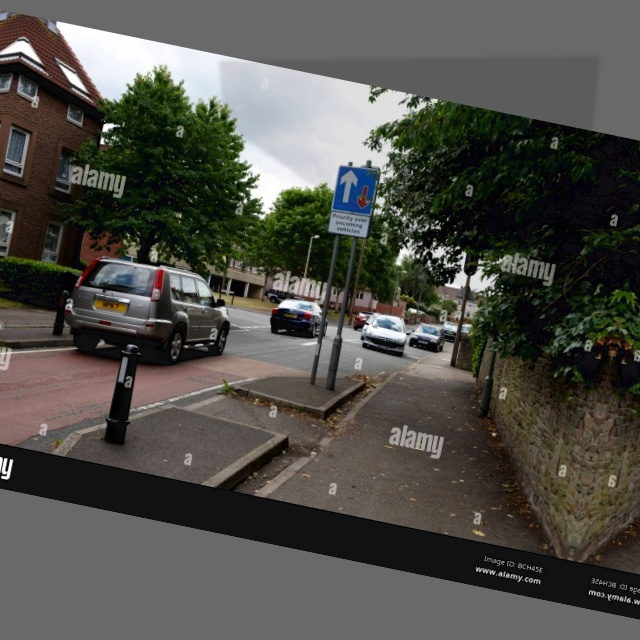Priority_for_Oncoming_Traffic: (330, 163, 382, 217)
